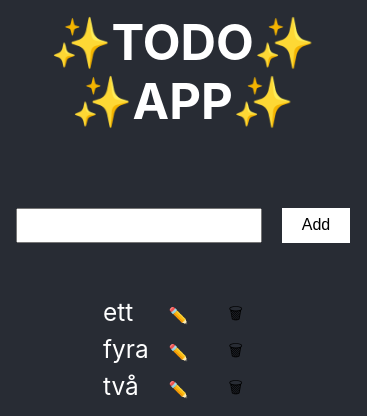
Test: Delete › deletes a todo
Click the button with test id "delete" next to "fyra".
click(236, 353)  # box [209, 334, 263, 371]
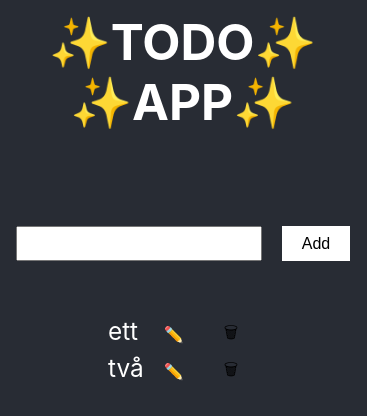
expect the number of list items with test id "item" is 2: met, box [108, 316, 258, 352]; [108, 352, 258, 390]
expect the text with test id "item" no longer shows "fyra": met
